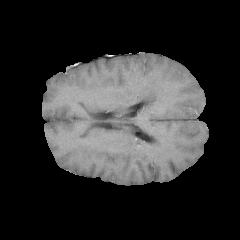glioma: (120, 72, 166, 113)
